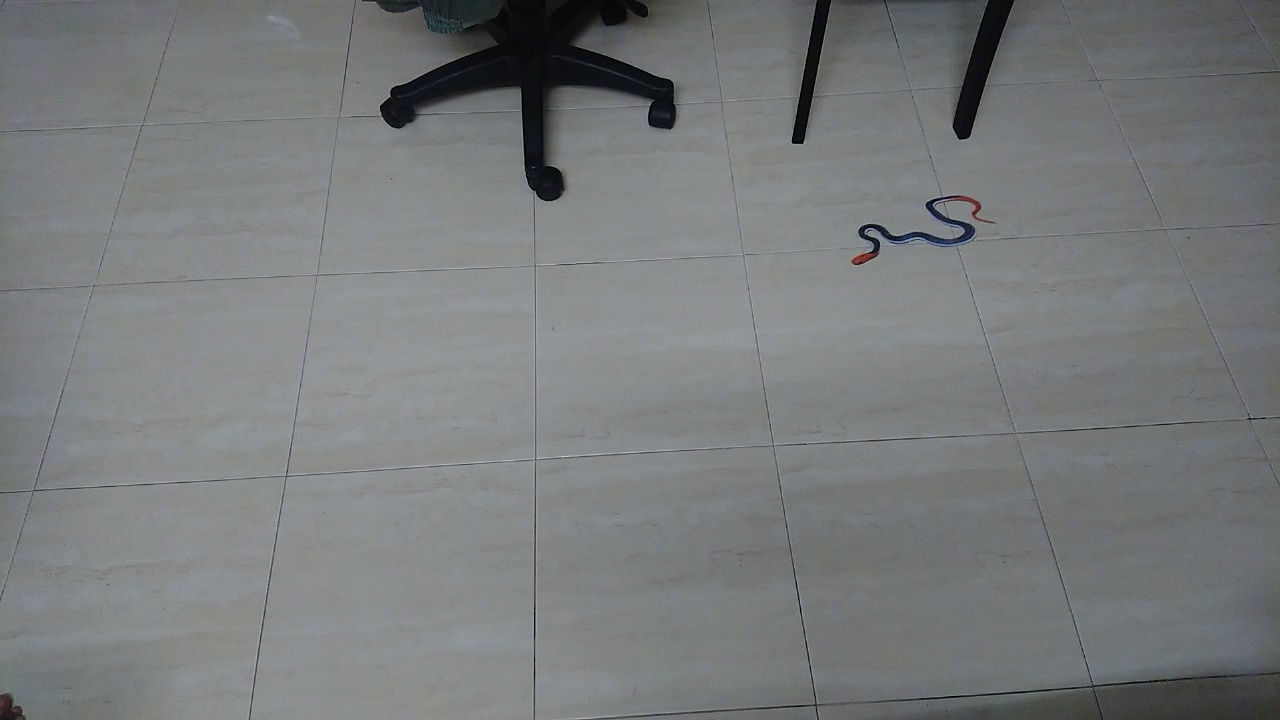snake: (837, 181, 1004, 278)
